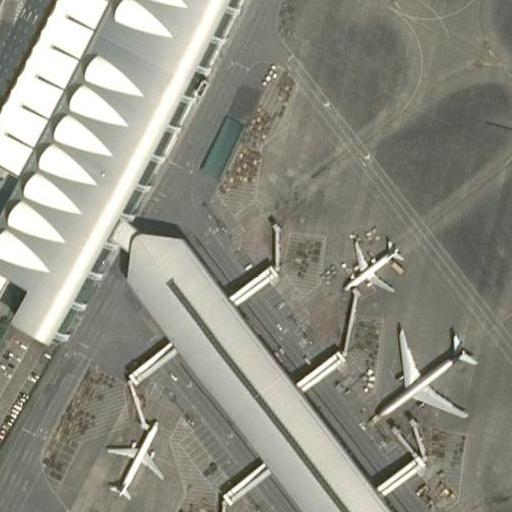Aircraft: (372, 325, 479, 427), (103, 416, 162, 500), (335, 236, 405, 295)
